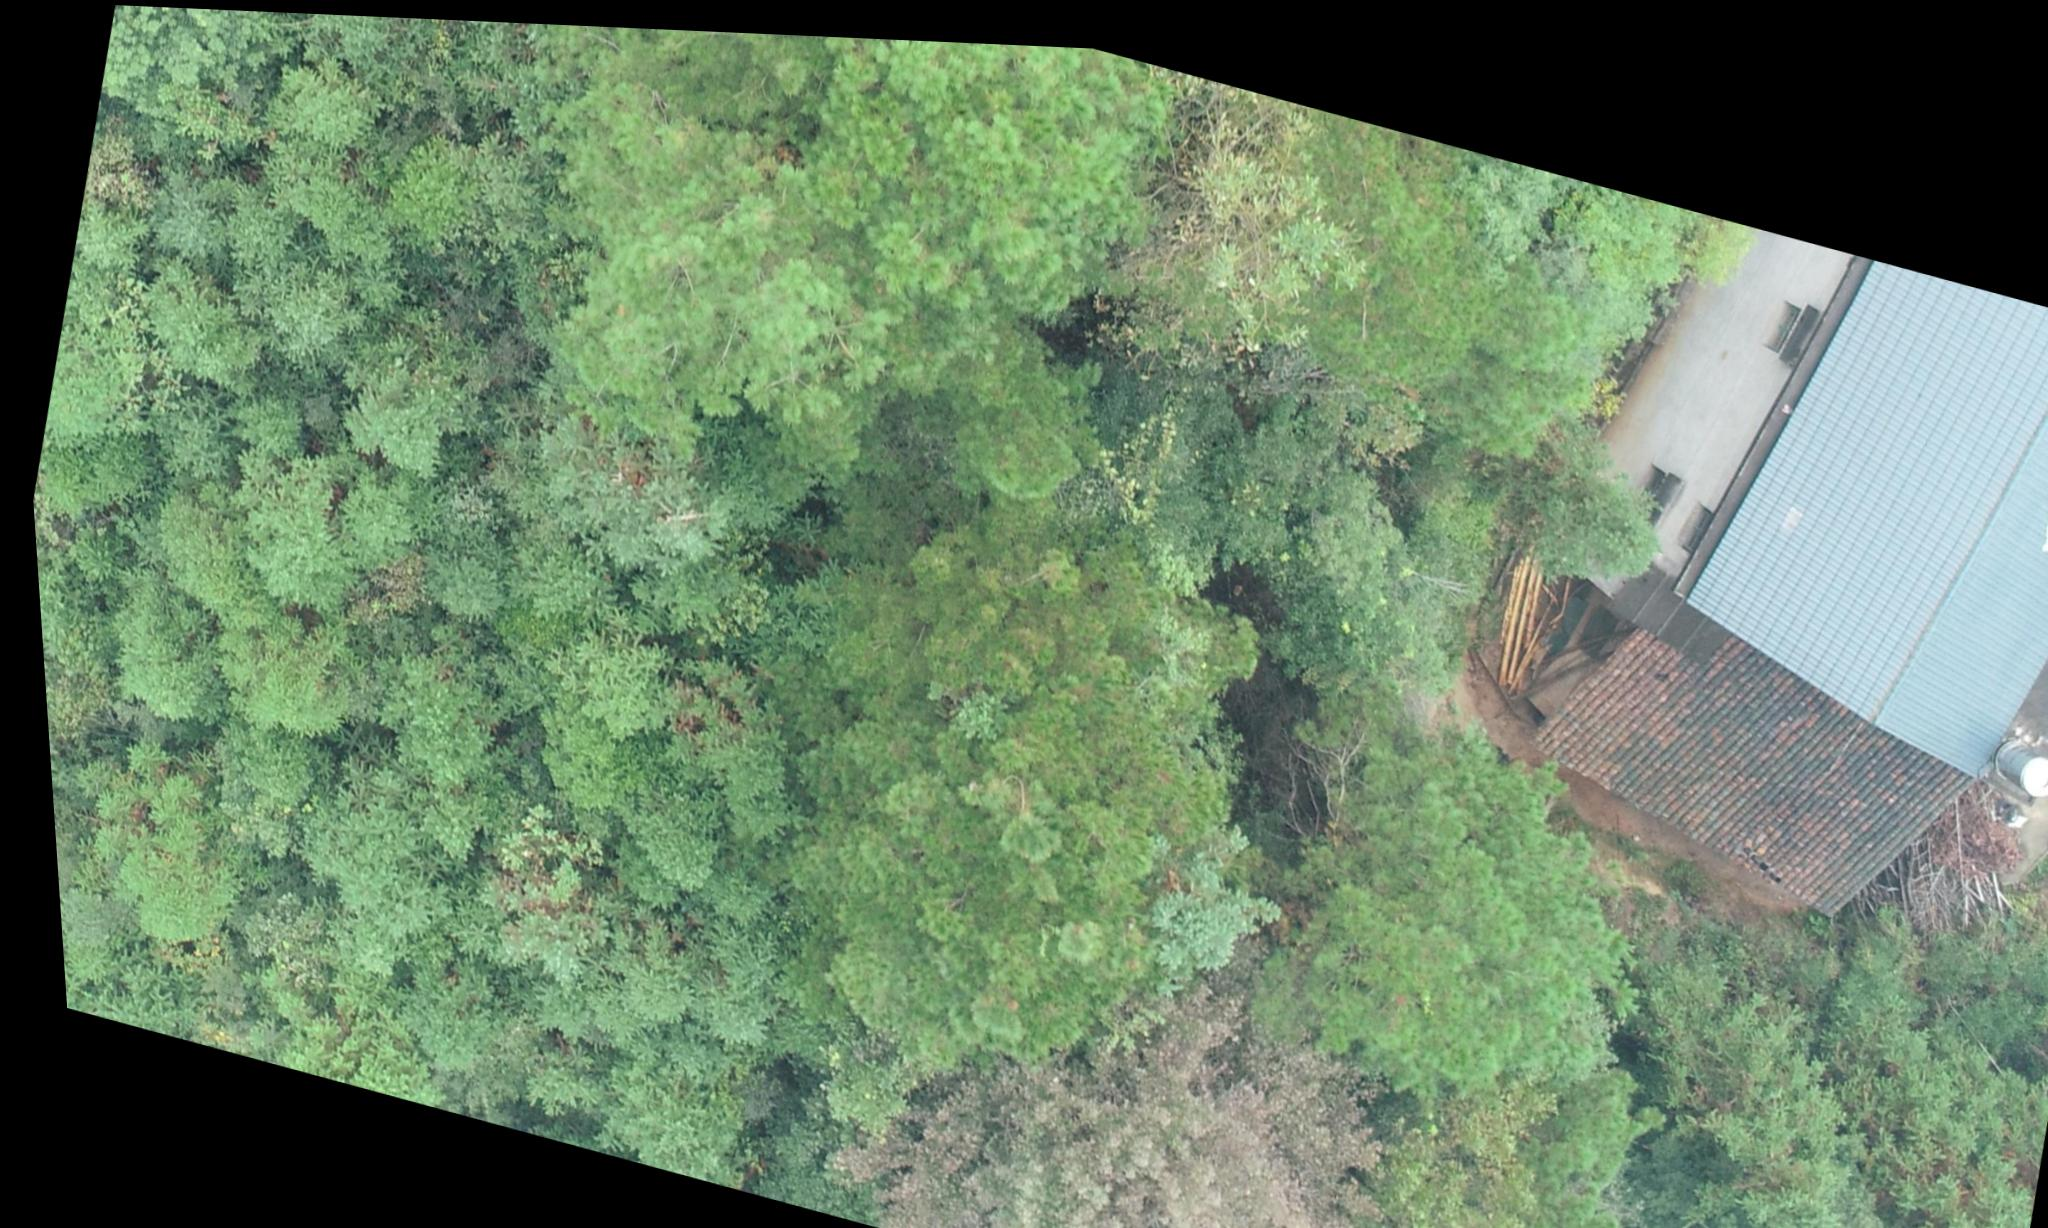light: (842, 485, 1247, 890)
